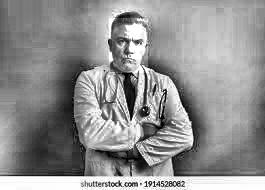angry: (109, 18, 148, 73)
